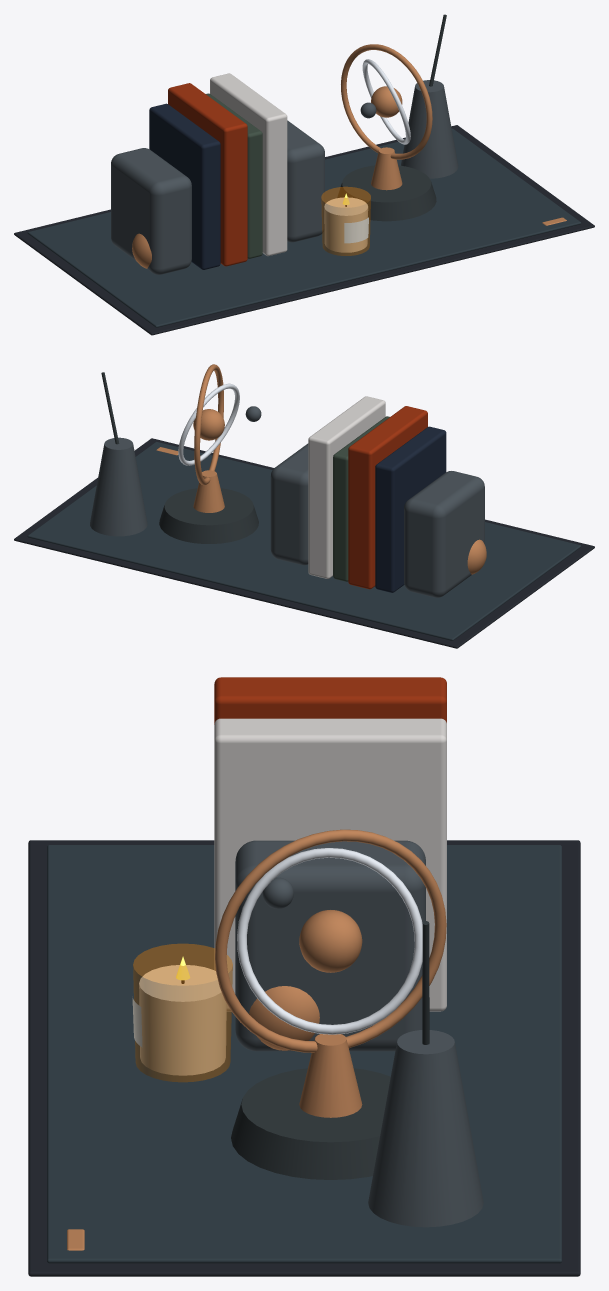
File: atelier-decor-curiosities-obsidian.glb
3 renders of one model, top to bottom at view 1: azimuth 30°, elevation 25°; view 2: azimuth 150°, elevation 25°; view 3: azimuth 270°, elevation 25°, orthographic. The views are drawn at different scales.
Bounding box in the file's own units: 0.78 × 0.2655 × 0.4201.
